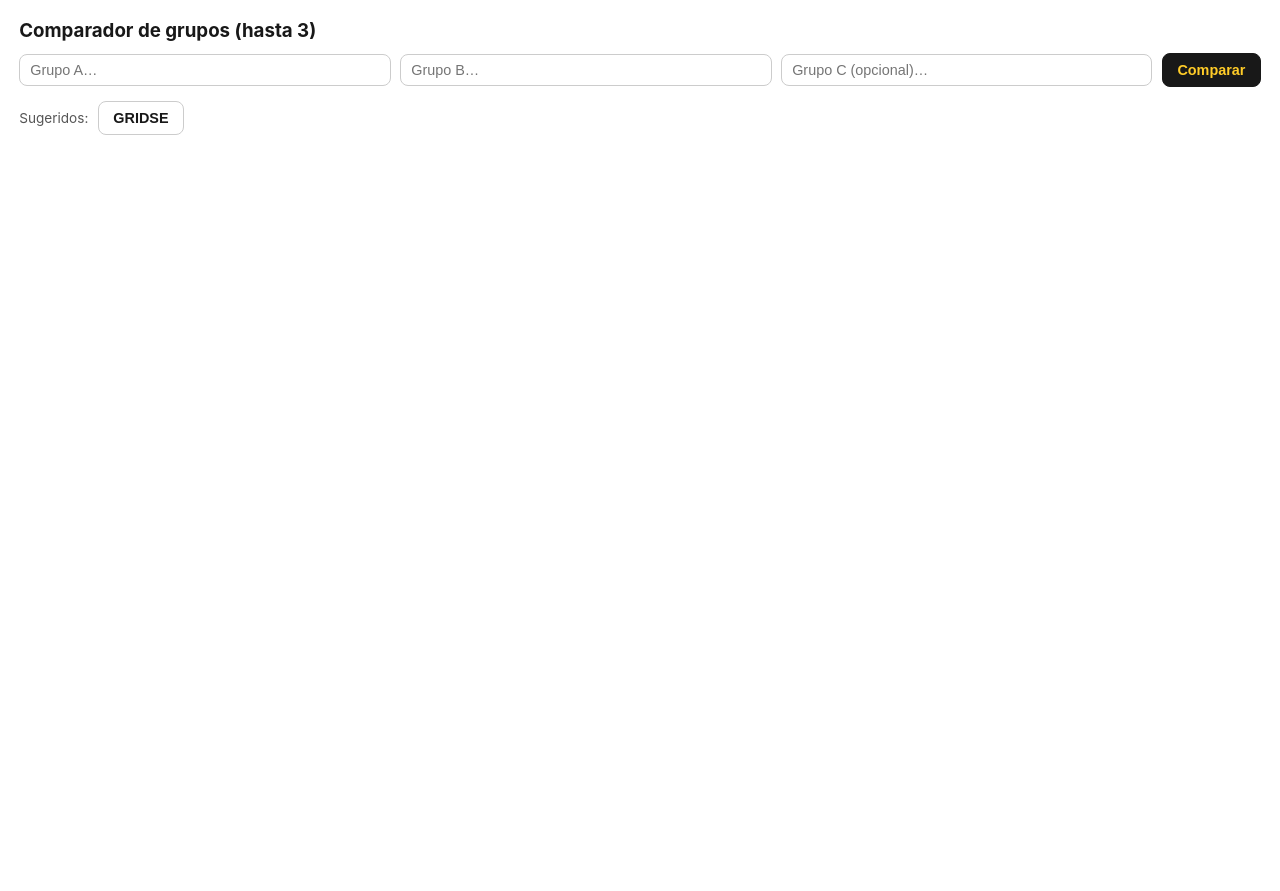
it: comparador › quitar una columna del resultado conserva la otra
Check: the heading "Comparador de grupos (hasta 3)" is shown, box [19, 19, 316, 42]
Type "GRIDSE" into the field with placeholder "Grupo A…" at x=205, y=70, box [19, 54, 391, 86]
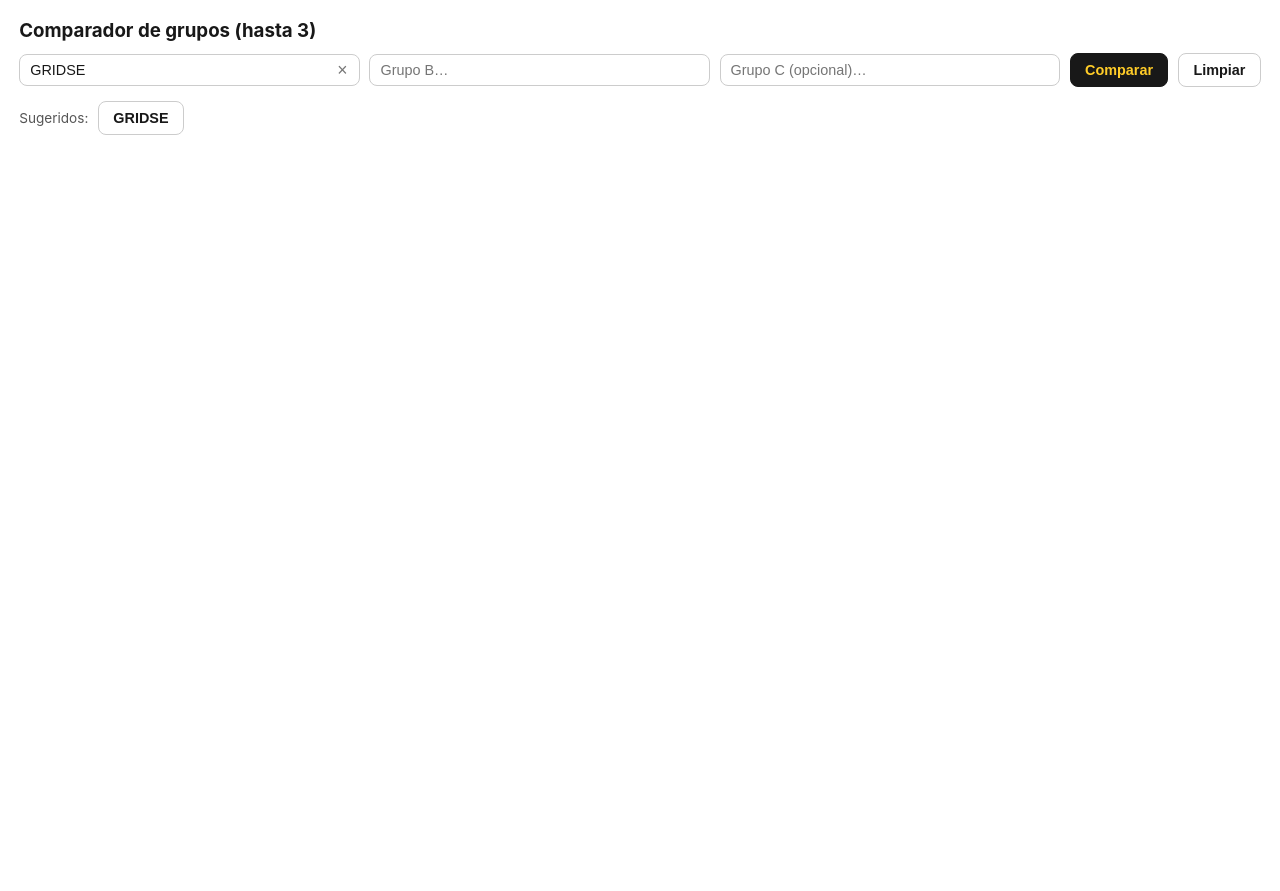
Type "OTRO" into the field with placeholder "Grupo B…" at x=540, y=70, box [369, 54, 710, 86]
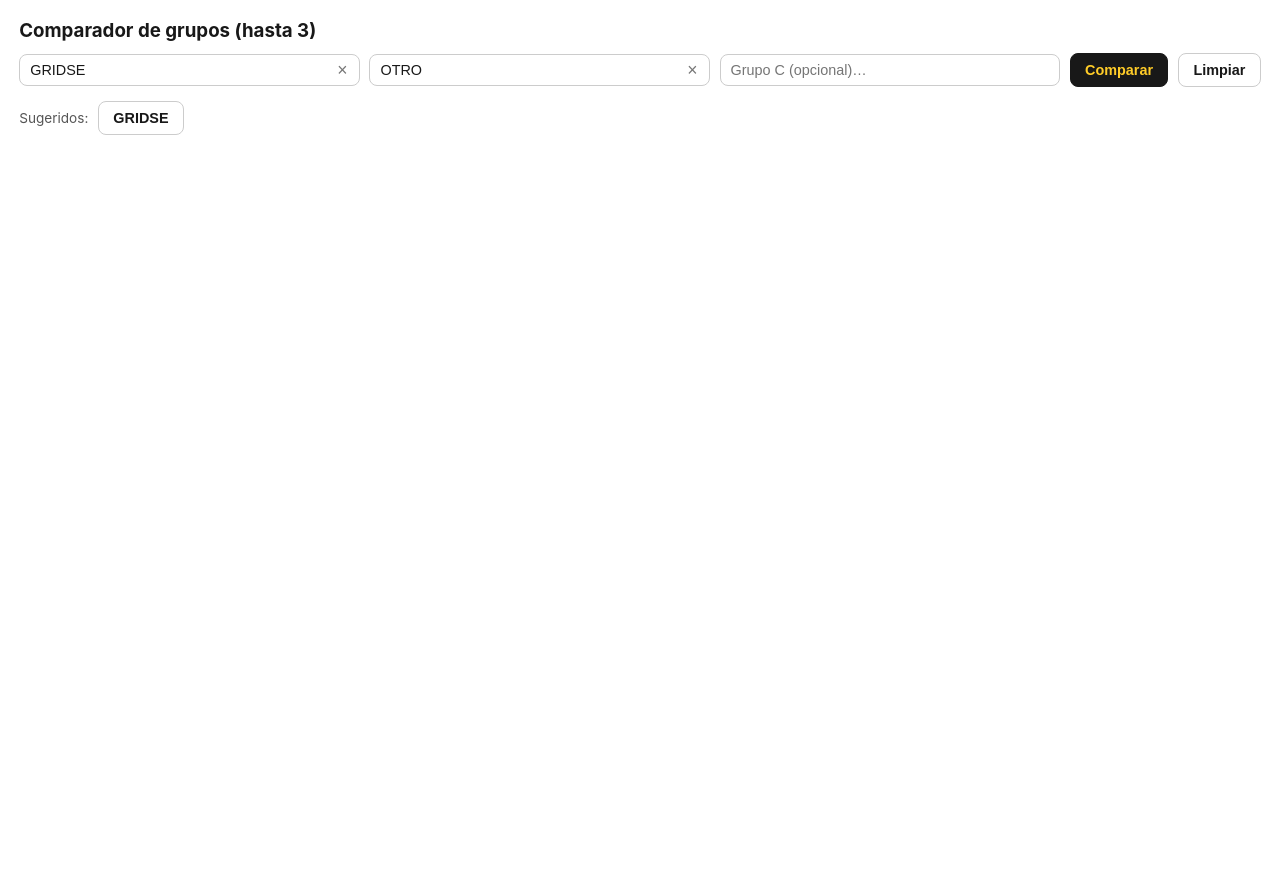
Click the button "Comparar" at x=1119, y=70, box [1070, 53, 1168, 87]
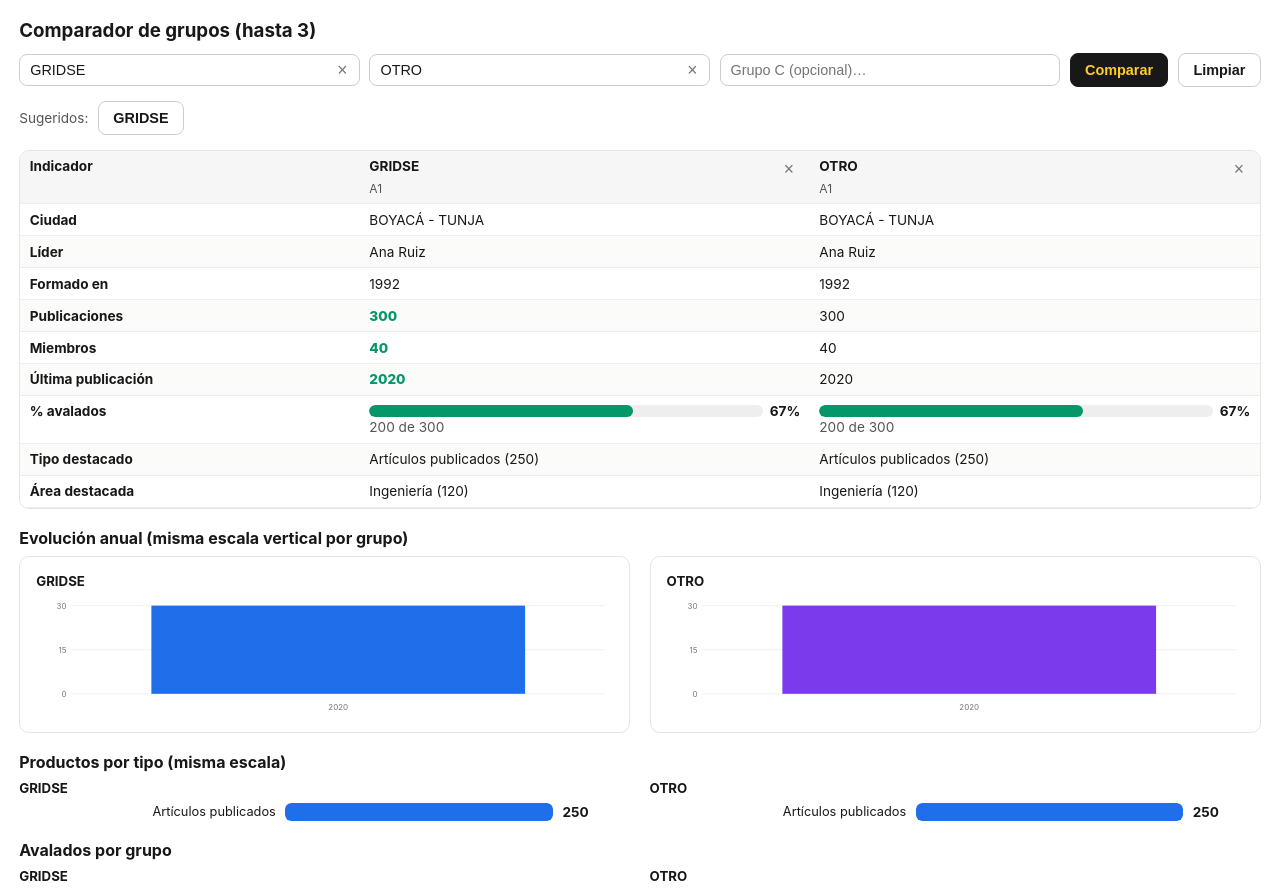
Check: the column heading "Indicador" is shown, box [20, 150, 360, 204]
Check: the number of column headings is 3, box [20, 150, 360, 204]; [360, 150, 810, 204]; [810, 150, 1260, 204]
Click the button named "Quitar GRIDSE de la comparación" at x=789, y=169, box [778, 158, 800, 181]
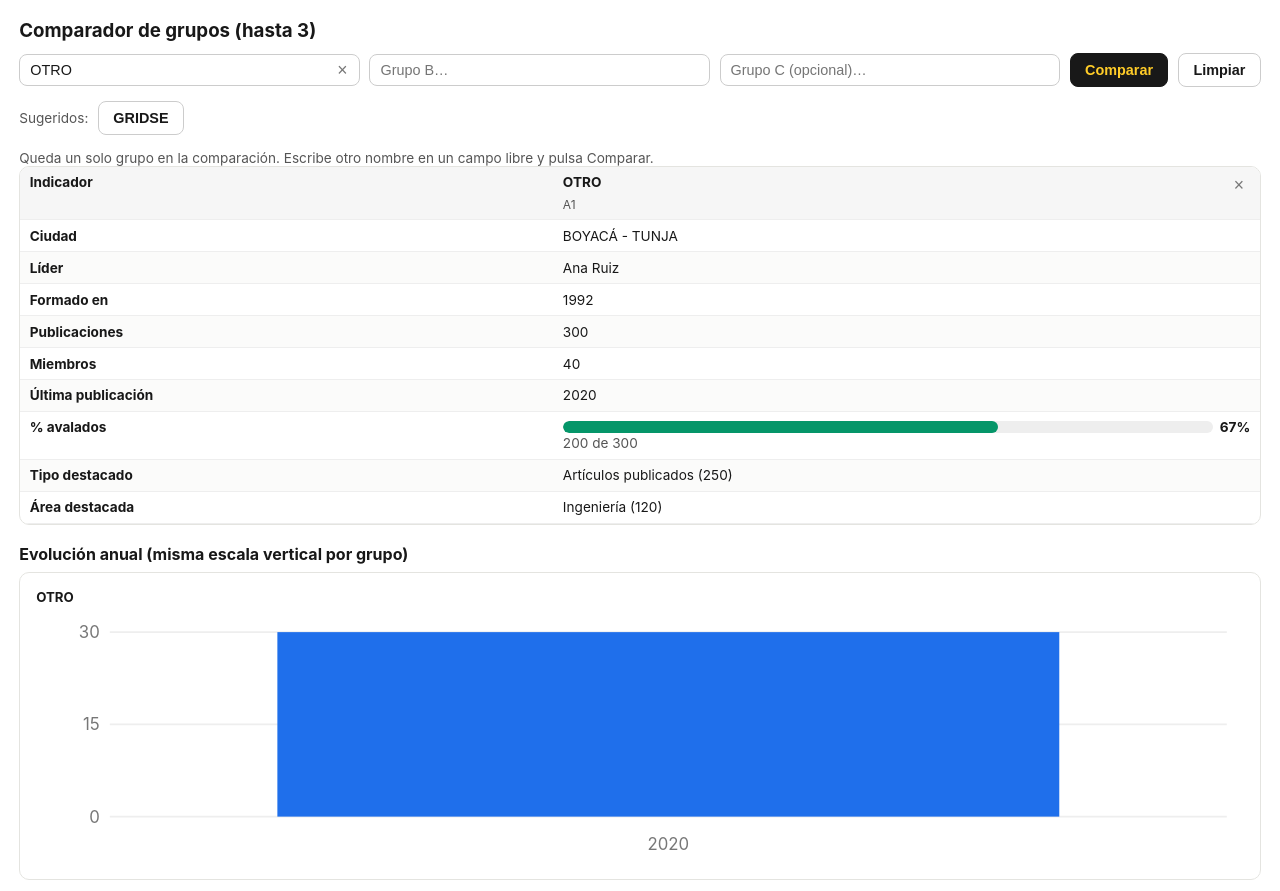
Check: the number of column headings is 2, box [20, 166, 553, 220]; [553, 166, 1260, 220]
Check: the text "Queda un solo grupo" is shown, box [19, 150, 654, 166]
Check: the field with placeholder "Grupo A…" holds "OTRO", box [19, 54, 360, 86]
